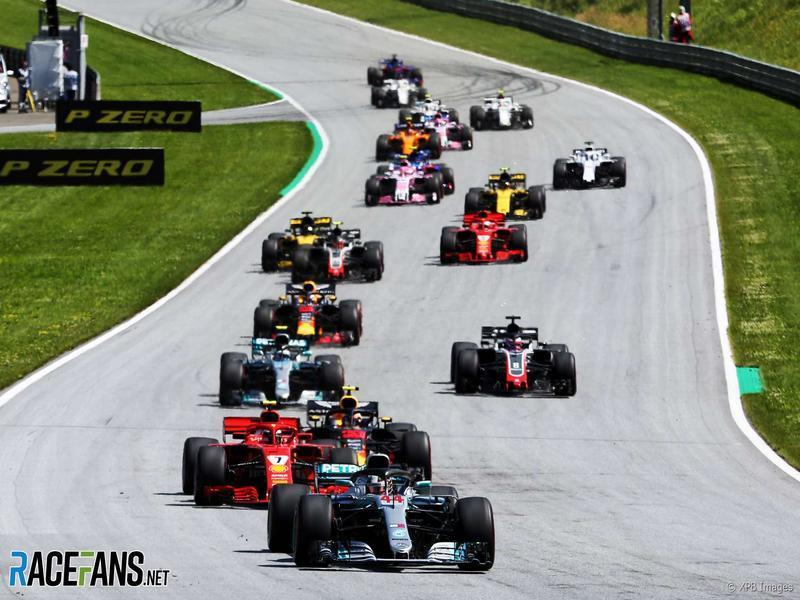f1: (274, 450, 501, 571), (171, 406, 356, 504), (434, 313, 591, 407), (214, 327, 361, 399), (247, 273, 384, 349), (546, 123, 666, 206), (261, 203, 356, 275), (439, 209, 549, 270), (364, 143, 449, 215), (474, 85, 531, 139)
